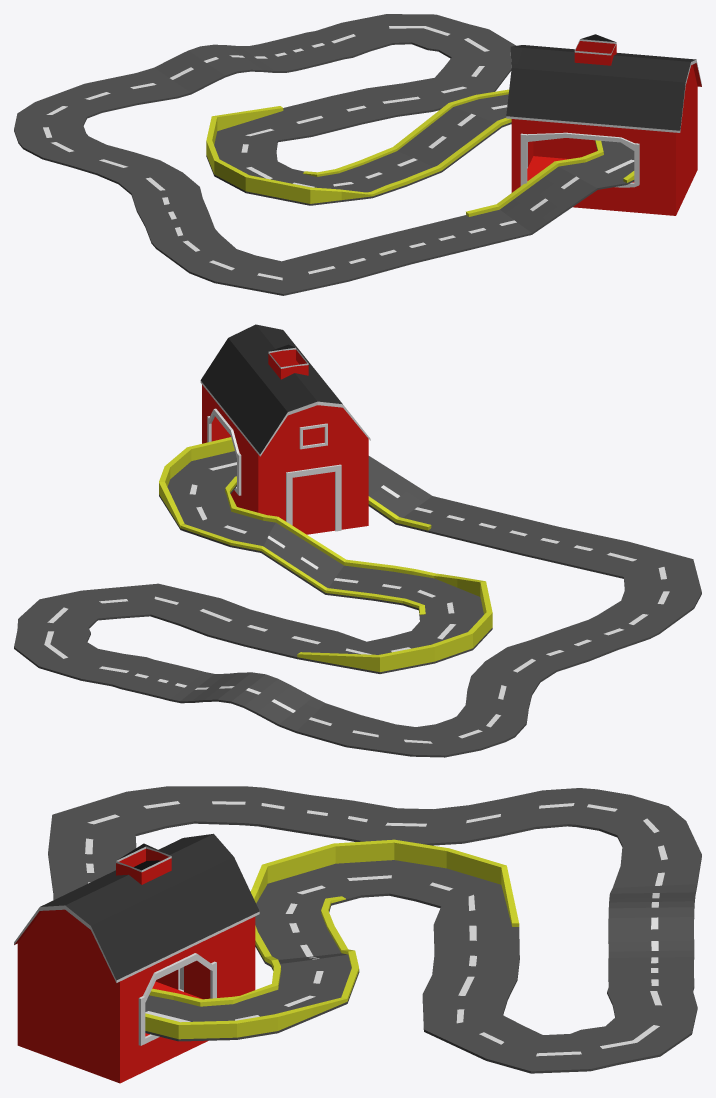
The model's file is track-with-barn.glb.
3 views of the same model, one above another, from view 1: azimuth 30°, elevation 25°; view 2: azimuth 150°, elevation 25°; view 3: azimuth 270°, elevation 25° (orthographic). The views are drawn at different scales.
Parts seen in each view (by area): view 1: road, barn; view 2: road, barn; view 3: road, barn.
Boxes of the visible parts, x1,y1,x2,y2 form: road: (14, 14, 634, 295); barn: (506, 34, 701, 215); road: (14, 437, 701, 757); barn: (200, 324, 370, 534); road: (48, 786, 701, 1073); barn: (14, 833, 259, 1083).
Size of the model in its own units: 77.12 by 22.62 by 76.25.
